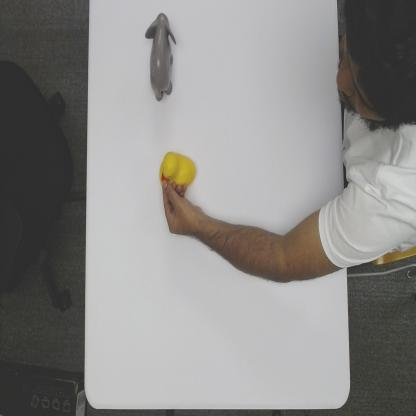Arm: (206, 198, 340, 288)
Duck: (158, 148, 200, 182)
Elephant: (145, 12, 178, 102)
Hand: (161, 182, 204, 238)
